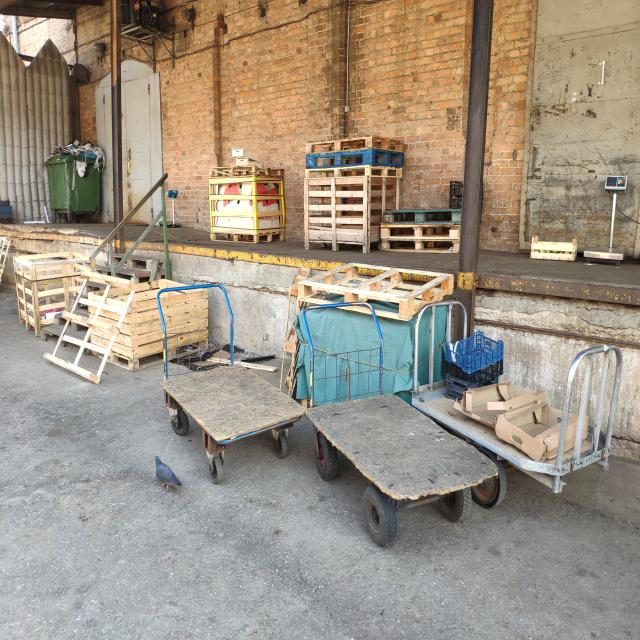entulho: (298, 138, 408, 259), (162, 358, 312, 446), (461, 382, 579, 470), (42, 270, 136, 378), (86, 284, 210, 362), (298, 262, 463, 320), (554, 348, 623, 477), (15, 256, 96, 336), (208, 170, 276, 244), (380, 207, 468, 250), (56, 134, 106, 168), (530, 235, 582, 262), (0, 239, 11, 288)
lixo domiciliar: (448, 328, 507, 382)
